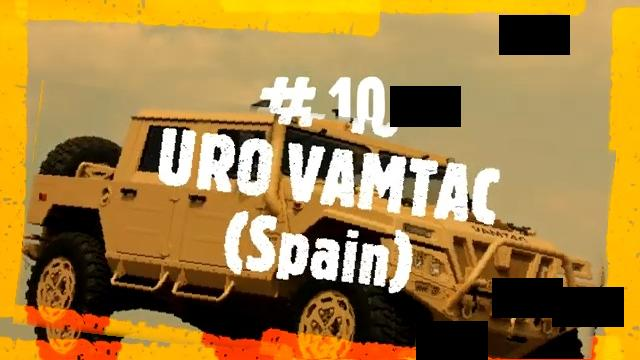MIL_HMMWV: (18, 97, 610, 360)
